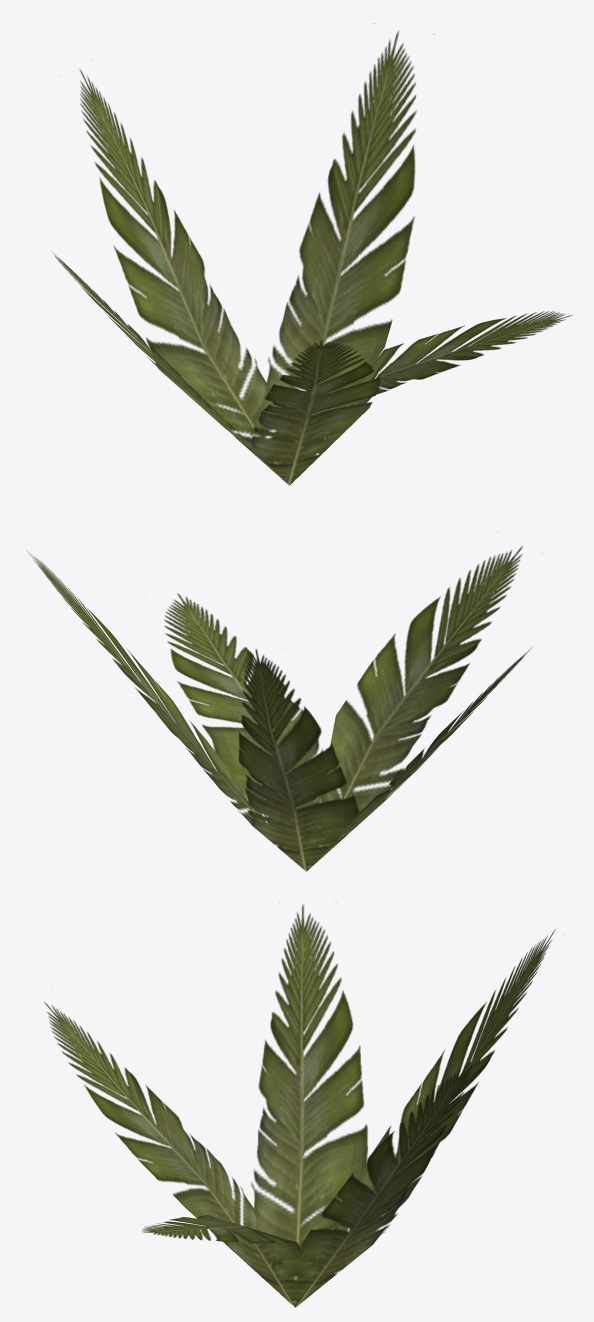
Rendered from mveg_c.glb.
3 renders of one model, top to bottom at view 1: azimuth 30°, elevation 25°; view 2: azimuth 150°, elevation 25°; view 3: azimuth 270°, elevation 25°, orthographic.
Parts seen in each view (by area): view 1: 01 Mesh0; view 2: 01 Mesh0; view 3: 01 Mesh0.
Boxes of the visible parts, x1=… form: 01 Mesh0: x1=53, y1=23, x2=572, y2=485; 01 Mesh0: x1=27, y1=531, x2=531, y2=871; 01 Mesh0: x1=44, y1=904, x2=555, y2=1307.
Size of the model in its own units: 4.44 by 3.04 by 4.52.
2 materials, 1 textured.
